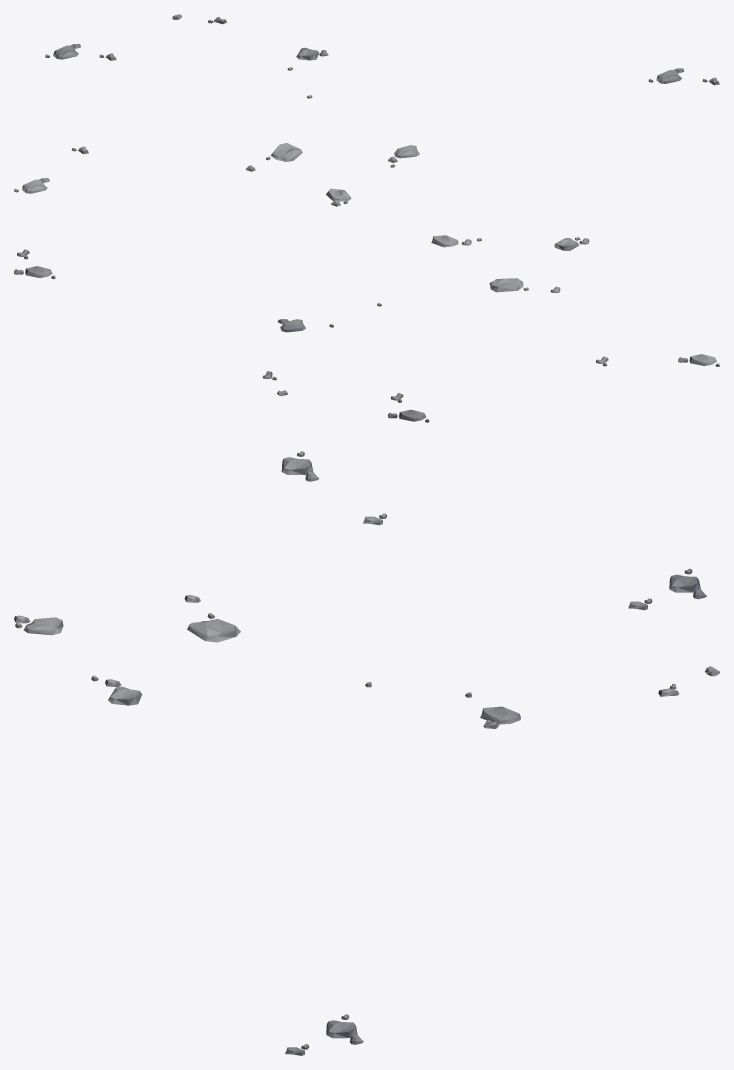
Rendered from Ground_04.FBX.
3 renders of one model, top to bottom at view 1: azimuth 30°, elevation 25°; view 2: azimuth 150°, elevation 25°; view 3: azimuth 270°, elevation 25°, orthographic. The views are drawn at different scales.
Parts seen in each view (by area): view 1: Ground_04; view 2: Ground_04; view 3: Ground_04.
Boxes of the visible parts, x1,y1,x2,y2 form: Ground_04: [14, 14, 719, 206]; Ground_04: [14, 235, 719, 422]; Ground_04: [14, 451, 719, 1055].
Size of the model in its own units: 32.55 by 2.83 by 18.93.
